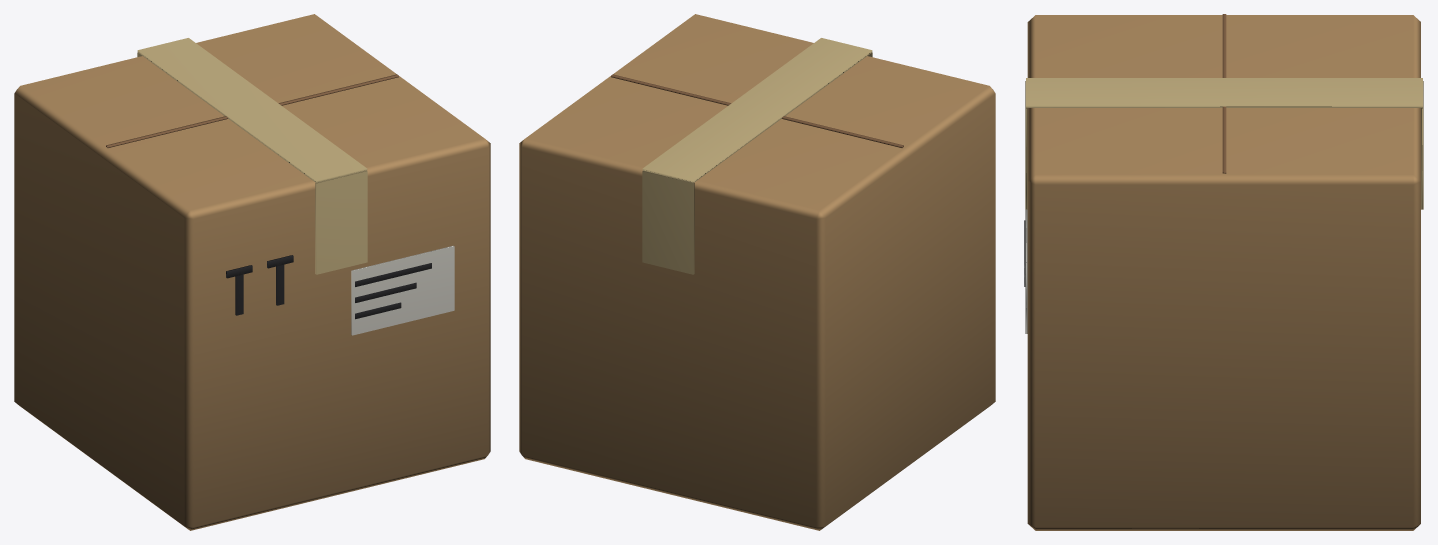
The model's file is BoxCardboard.fbx.
3 renders of one model, left to right at view 1: azimuth 30°, elevation 25°; view 2: azimuth 150°, elevation 25°; view 3: azimuth 270°, elevation 25°, orthographic. The views are drawn at different scales.
Visible parts, largest first — view 1: BoxCardboard; view 2: BoxCardboard; view 3: BoxCardboard.
Boxes of the visible parts, x1=… form: BoxCardboard: x1=14, y1=14, x2=490, y2=530; BoxCardboard: x1=519, y1=14, x2=995, y2=530; BoxCardboard: x1=1024, y1=14, x2=1423, y2=530.
Size of the model in its own units: 0.6 by 0.605 by 0.6095.
